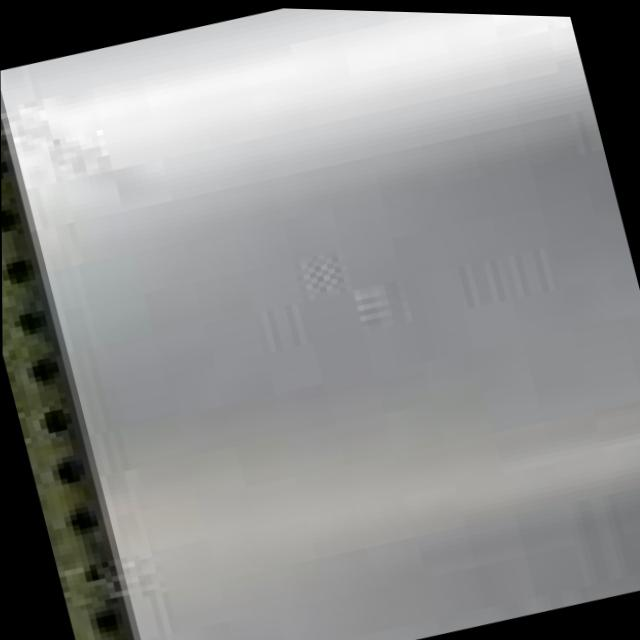metal-plates: (1, 8, 640, 640)
